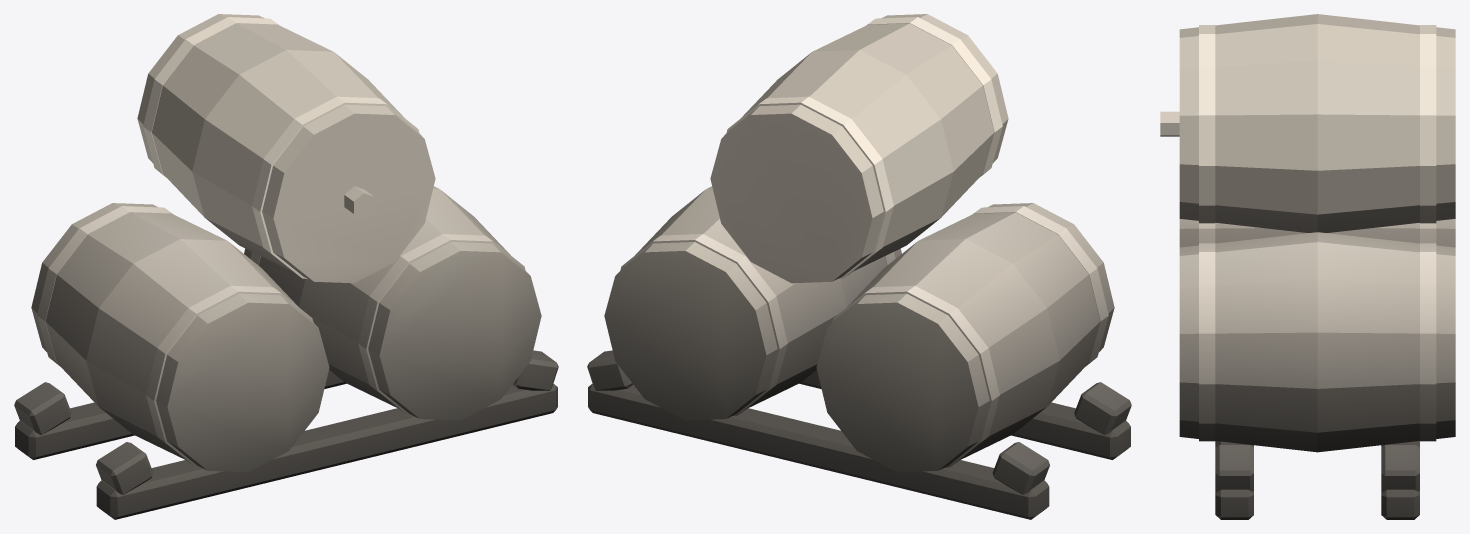
Rendered from SM_VK_Prop_BarrelStack.fbx.
3 renders of one model, left to right at view 1: azimuth 30°, elevation 25°; view 2: azimuth 150°, elevation 25°; view 3: azimuth 270°, elevation 25°, orthographic.
Parts seen in each view (by area): view 1: SM_VK_Prop_BarrelStack.001; view 2: SM_VK_Prop_BarrelStack.001; view 3: SM_VK_Prop_BarrelStack.001.
Part boxes in pixels (box(x1,y1,x2,y2)): SM_VK_Prop_BarrelStack.001: box(14, 14, 558, 519); SM_VK_Prop_BarrelStack.001: box(587, 14, 1131, 519); SM_VK_Prop_BarrelStack.001: box(1160, 14, 1455, 519).
Bounding box in the file's own units: 1.9 × 1.55 × 1.07.
